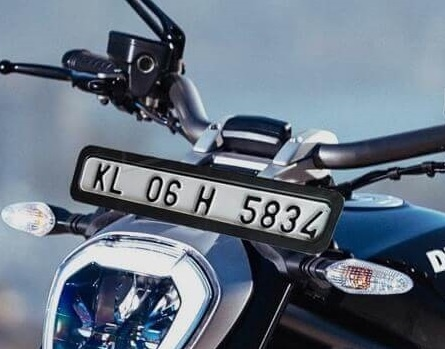number_plate: (80, 150, 335, 243)
